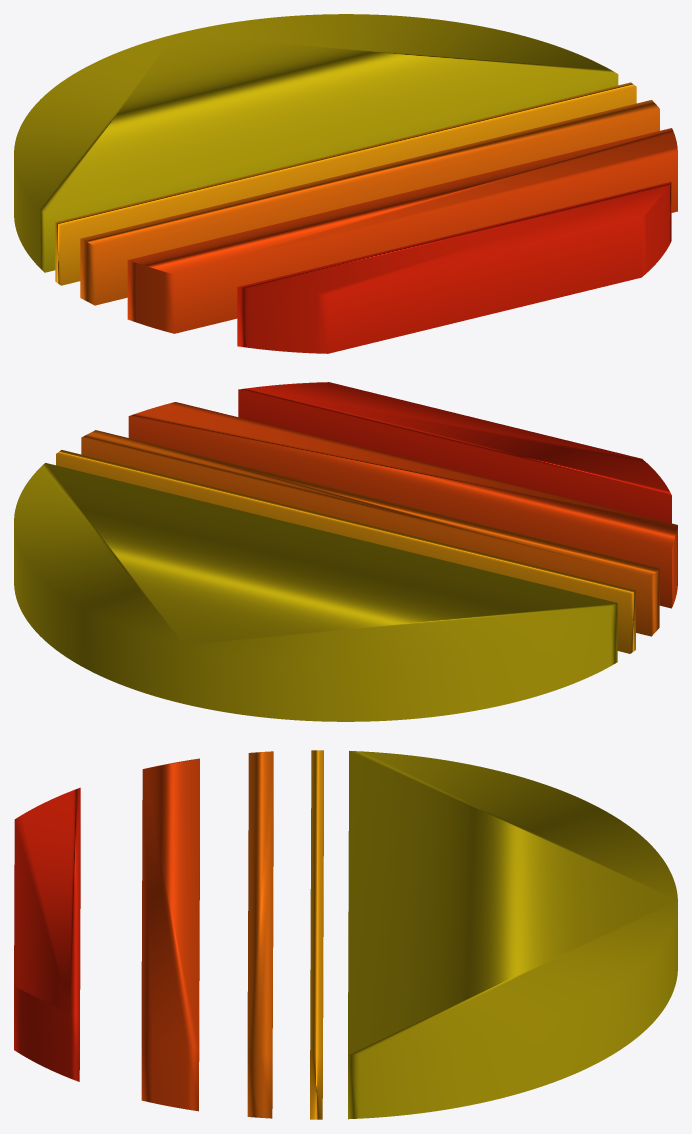
The model's file is sun_circle.fbx.
3 renders of one model, top to bottom at view 1: azimuth 30°, elevation 25°; view 2: azimuth 150°, elevation 25°; view 3: azimuth 270°, elevation 25°, orthographic. The views are drawn at different scales.
Parts seen in each view (by area): view 1: Cylinder_Cylinder.002; view 2: Cylinder_Cylinder.002; view 3: Cylinder_Cylinder.002.
Boxes of the visible parts, bbox=[...] form: Cylinder_Cylinder.002: bbox=[14, 14, 677, 353]; Cylinder_Cylinder.002: bbox=[14, 382, 677, 721]; Cylinder_Cylinder.002: bbox=[14, 750, 677, 1119].
Size of the model in its own units: 599 by 59.05 by 551.
